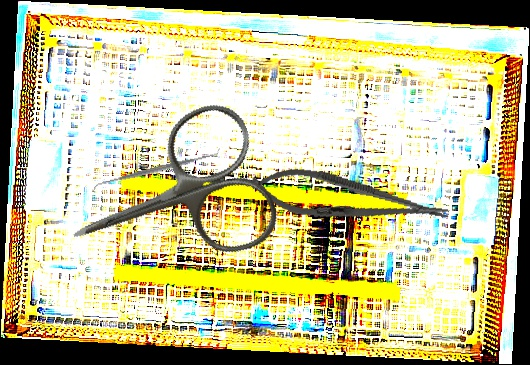Iris Scissors: (47, 95, 286, 304)
Needle Holder: (247, 160, 453, 239)
Spatula Surgical: (89, 146, 223, 194)
